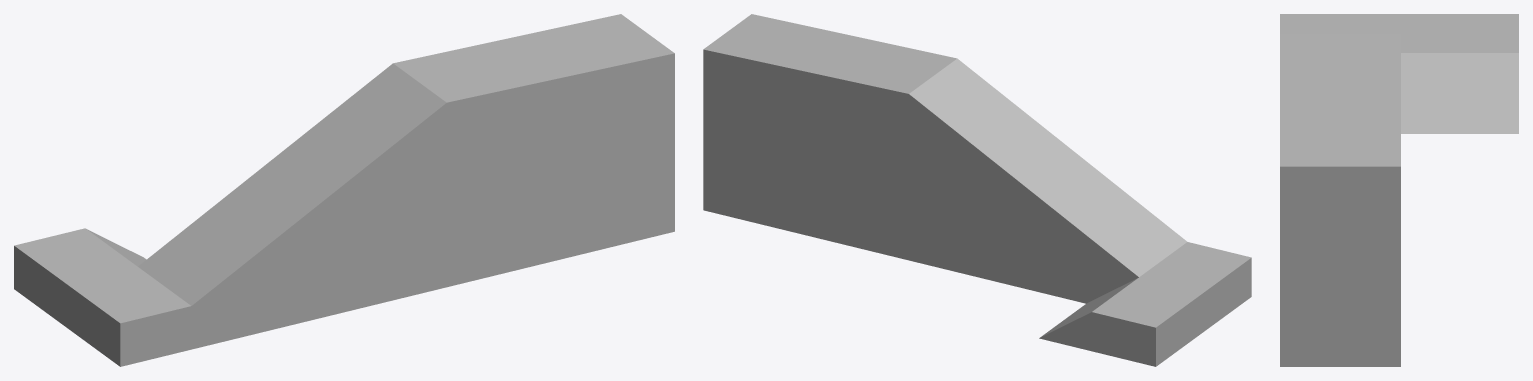
File: escalator.obj
3 views of the same model, side by side, from view 1: azimuth 30°, elevation 25°; view 2: azimuth 150°, elevation 25°; view 3: azimuth 270°, elevation 25° (orthographic). The views are drawn at different scales.
Parts seen in each view (by area): view 1: エスカレータ; view 2: エスカレータ; view 3: エスカレータ.
Boxes of the visible parts, box(x1,y1,x2,y2) form: エスカレータ: box(14, 14, 674, 366); エスカレータ: box(703, 14, 1251, 366); エスカレータ: box(1280, 14, 1518, 366).
Size of the model in its own units: 14.89 by 4.74 by 4.94.
Materials: 1 (1 with a texture image).
